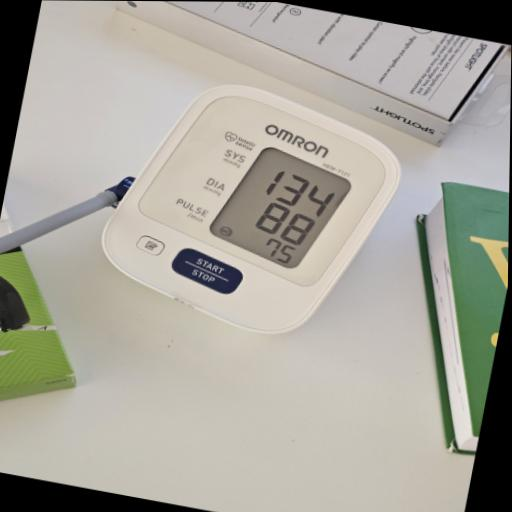lcd display: (203, 138, 359, 279)
